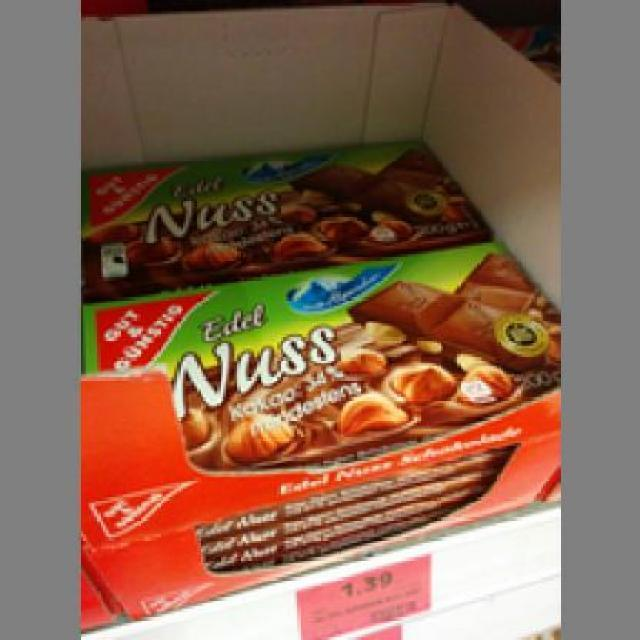Chocolate: (80, 248, 557, 462), (77, 140, 490, 291)
